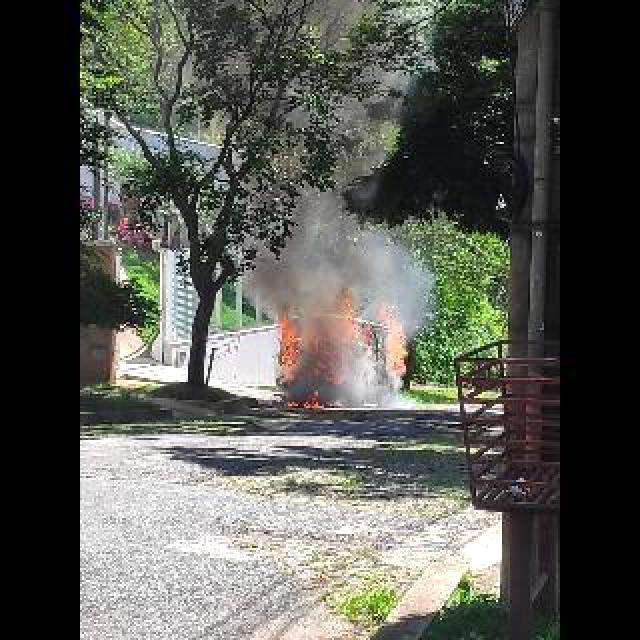Fire: (378, 296, 416, 378), (273, 317, 307, 383)
Smoke: (264, 194, 426, 398)
